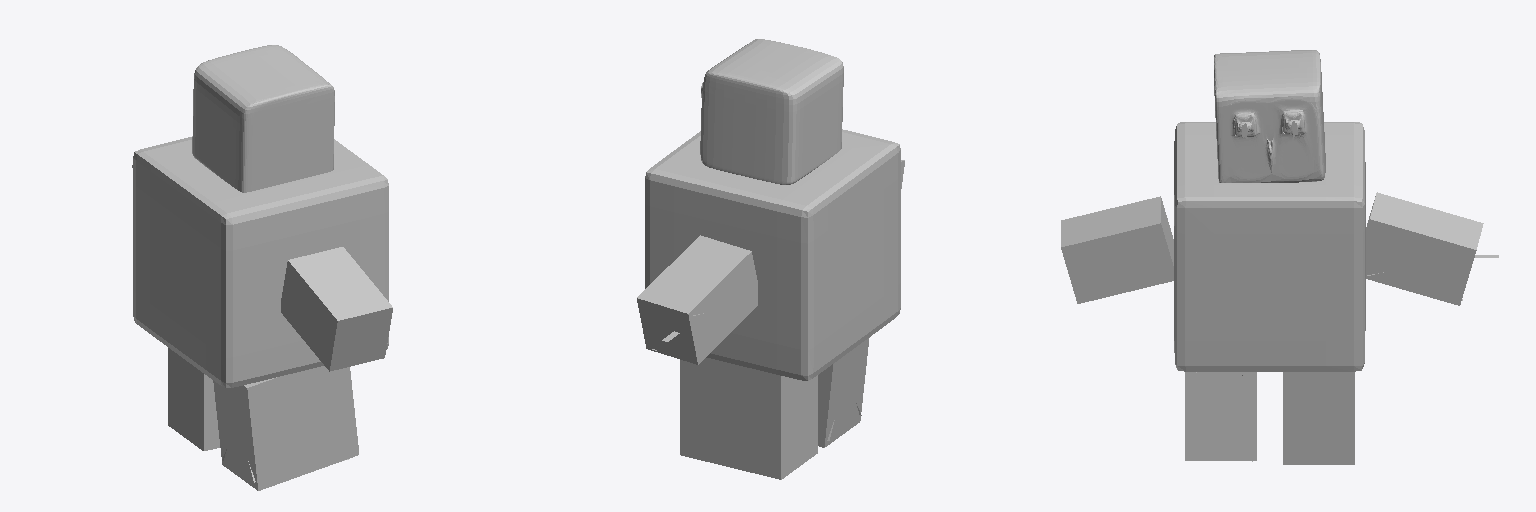
The picture shows the model from 3 angles: view 1: azimuth 30°, elevation 25°; view 2: azimuth 150°, elevation 25°; view 3: azimuth 270°, elevation 25°; orthographic projection.
Visible parts, largest first — view 1: Cube_Cube.001, Cube.001_Cube.002, CollisionLL_Cube.003, Cube.005_Cube.007, Cube.003_Cube.004; view 2: Cube_Cube.001, Cube.001_Cube.002, Cube.003_Cube.004, Cube.004_Cube.005, CollisionLL_Cube.003; view 3: Cube_Cube.001, Cube.001_Cube.002, Cube.004_Cube.005, Cube.005_Cube.007, Cube.003_Cube.004, CollisionLL_Cube.003.
Part boxes in pixels (x1,y1,x2,y2): Cube_Cube.001: (133,136,388,387); Cube.001_Cube.002: (192,45,334,192); CollisionLL_Cube.003: (213,366,358,490); Cube.005_Cube.007: (281,247,392,371); Cube.003_Cube.004: (168,348,219,450); Cube_Cube.001: (645,129,900,380); Cube.001_Cube.002: (700,39,843,184); Cube.003_Cube.004: (680,358,817,479); Cube.004_Cube.005: (637,235,757,364); CollisionLL_Cube.003: (818,337,869,447); Cube_Cube.001: (1174,122,1365,371); Cube.001_Cube.002: (1214,50,1325,182); Cube.004_Cube.005: (1366,192,1483,305); Cube.005_Cube.007: (1061,196,1173,303); Cube.003_Cube.004: (1283,372,1354,464); CollisionLL_Cube.003: (1185,372,1256,460).
Bounding box in the file's own units: 1.46 × 3.18 × 3.34.